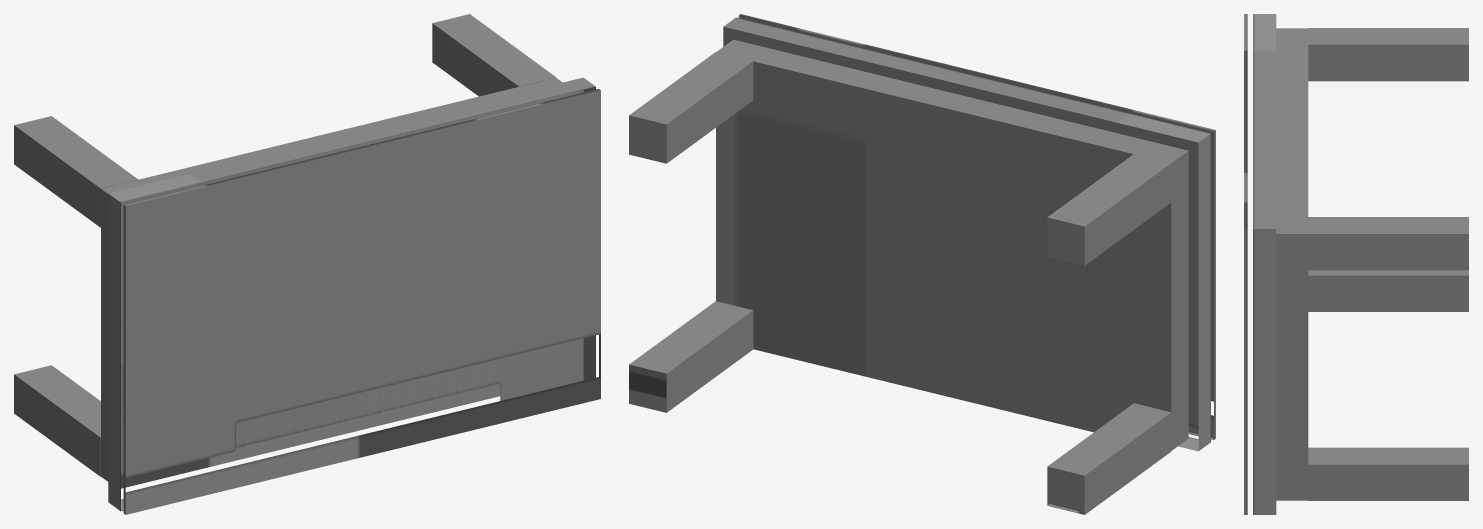
3 views of the same model, side by side, from view 1: azimuth 30°, elevation 25°; view 2: azimuth 150°, elevation 25°; view 3: azimuth 270°, elevation 25° (orthographic). The views are drawn at different scales.
Size of the model in its own units: 0.95 by 0.59 by 0.42.
